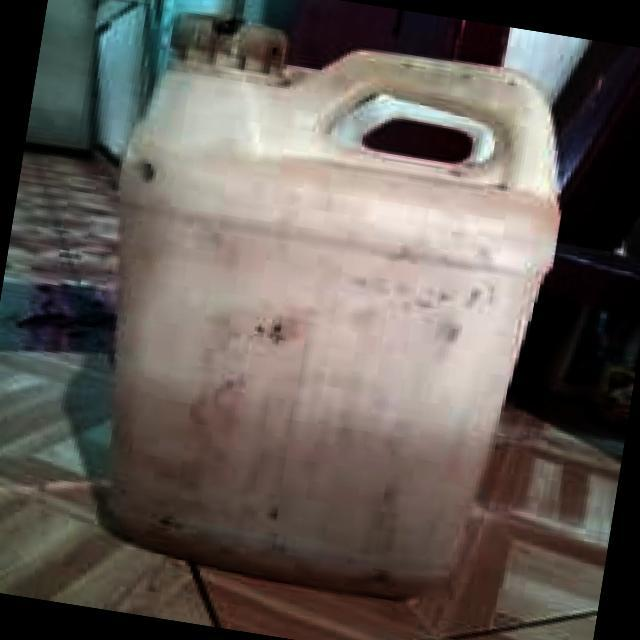HDPE Plastic: (102, 44, 564, 604)
